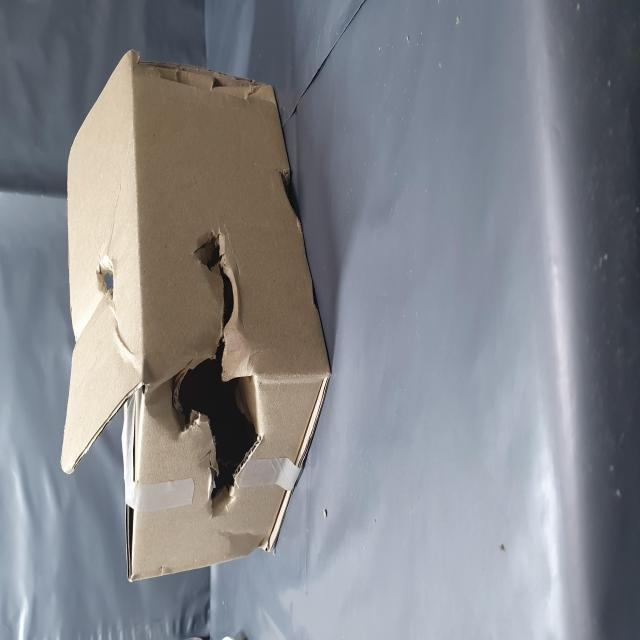damaged: (70, 305, 234, 467)
